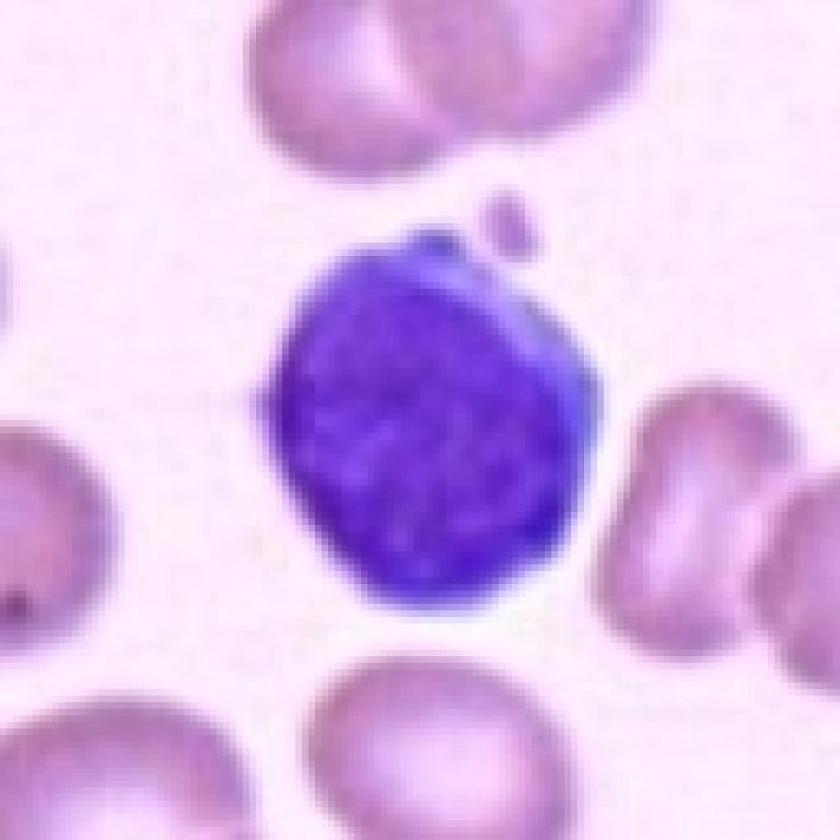lymphocyte: (248, 199, 615, 617)
